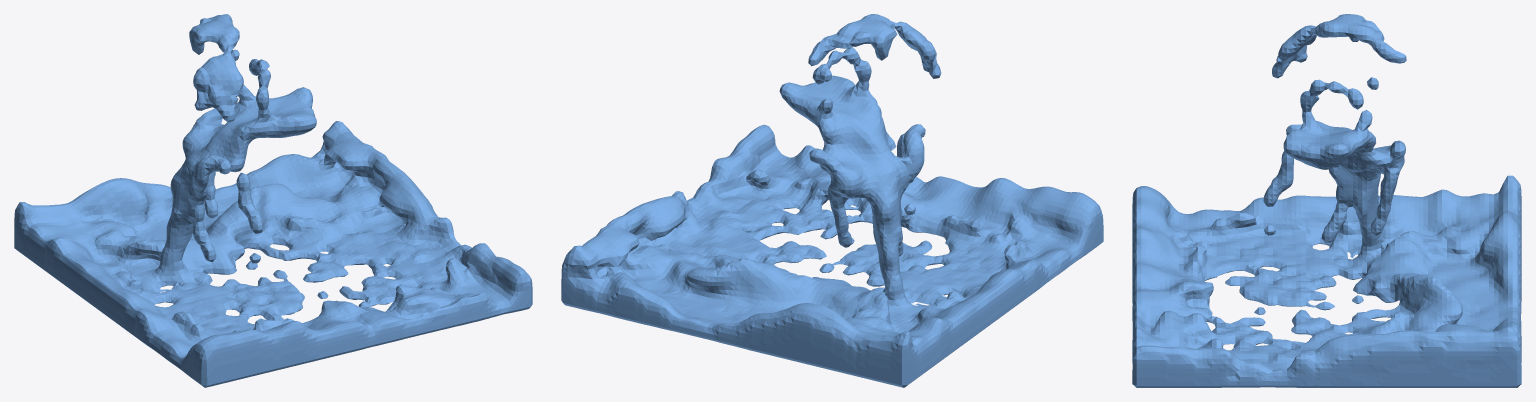
The model's file is water_0089.glb.
3 views of the same model, side by side, from view 1: azimuth 30°, elevation 25°; view 2: azimuth 150°, elevation 25°; view 3: azimuth 270°, elevation 25° (orthographic). The views are drawn at different scales.
Visible parts, largest first — view 1: Water_0089; view 2: Water_0089; view 3: Water_0089.
Boxes of the visible parts, box(x1,y1,x2,y2) form: Water_0089: box(14, 14, 532, 387); Water_0089: box(561, 14, 1103, 387); Water_0089: box(1132, 14, 1521, 387).
Bounding box in the file's own units: 4.83 × 3.63 × 4.83.
